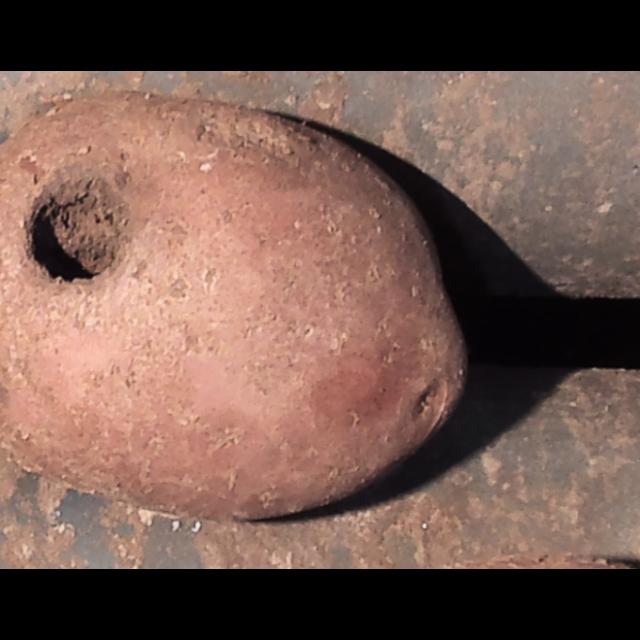Diseased-fungal potato: (0, 80, 482, 530)
